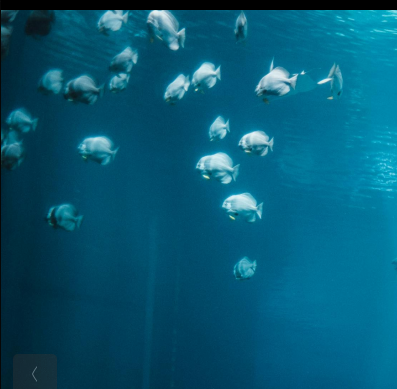fishLarge: (328, 63, 345, 101)
fishRound: (145, 7, 186, 51), (254, 66, 298, 106), (195, 152, 241, 185), (76, 135, 120, 167), (221, 192, 263, 223), (63, 75, 106, 105), (44, 203, 85, 232), (237, 129, 275, 157), (107, 45, 138, 79), (191, 61, 222, 93), (163, 73, 191, 107), (37, 68, 67, 97), (97, 10, 129, 37), (6, 108, 39, 133), (208, 113, 231, 143), (231, 257, 257, 281), (233, 11, 250, 45), (107, 73, 132, 93)
